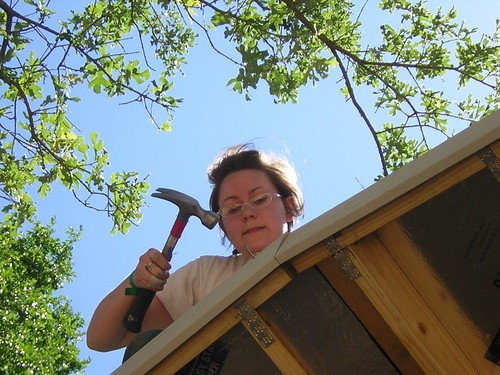hammer: (126, 189, 220, 330)
